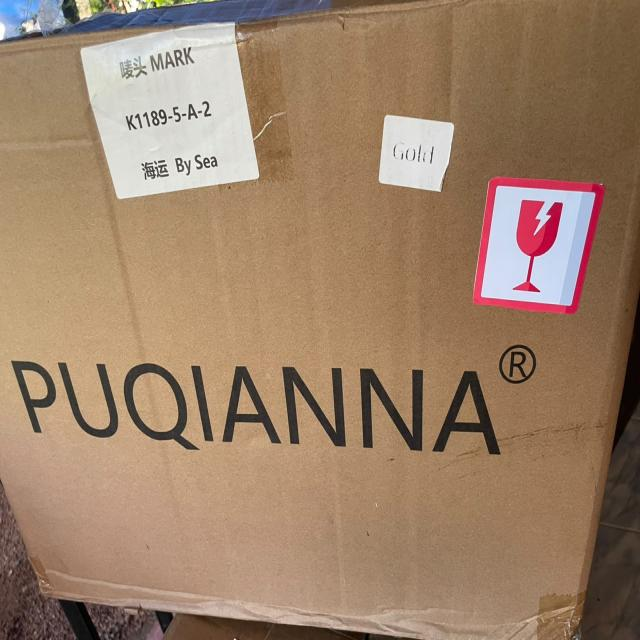carton_box: (0, 0, 640, 640)
export_mark_label: (75, 32, 266, 200)
fragile_label: (476, 148, 598, 325)
